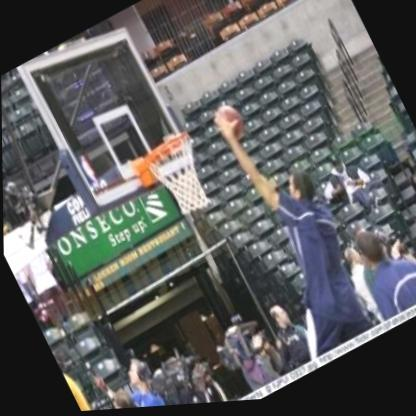basketball: (211, 103, 246, 143)
rim: (134, 126, 222, 234)
